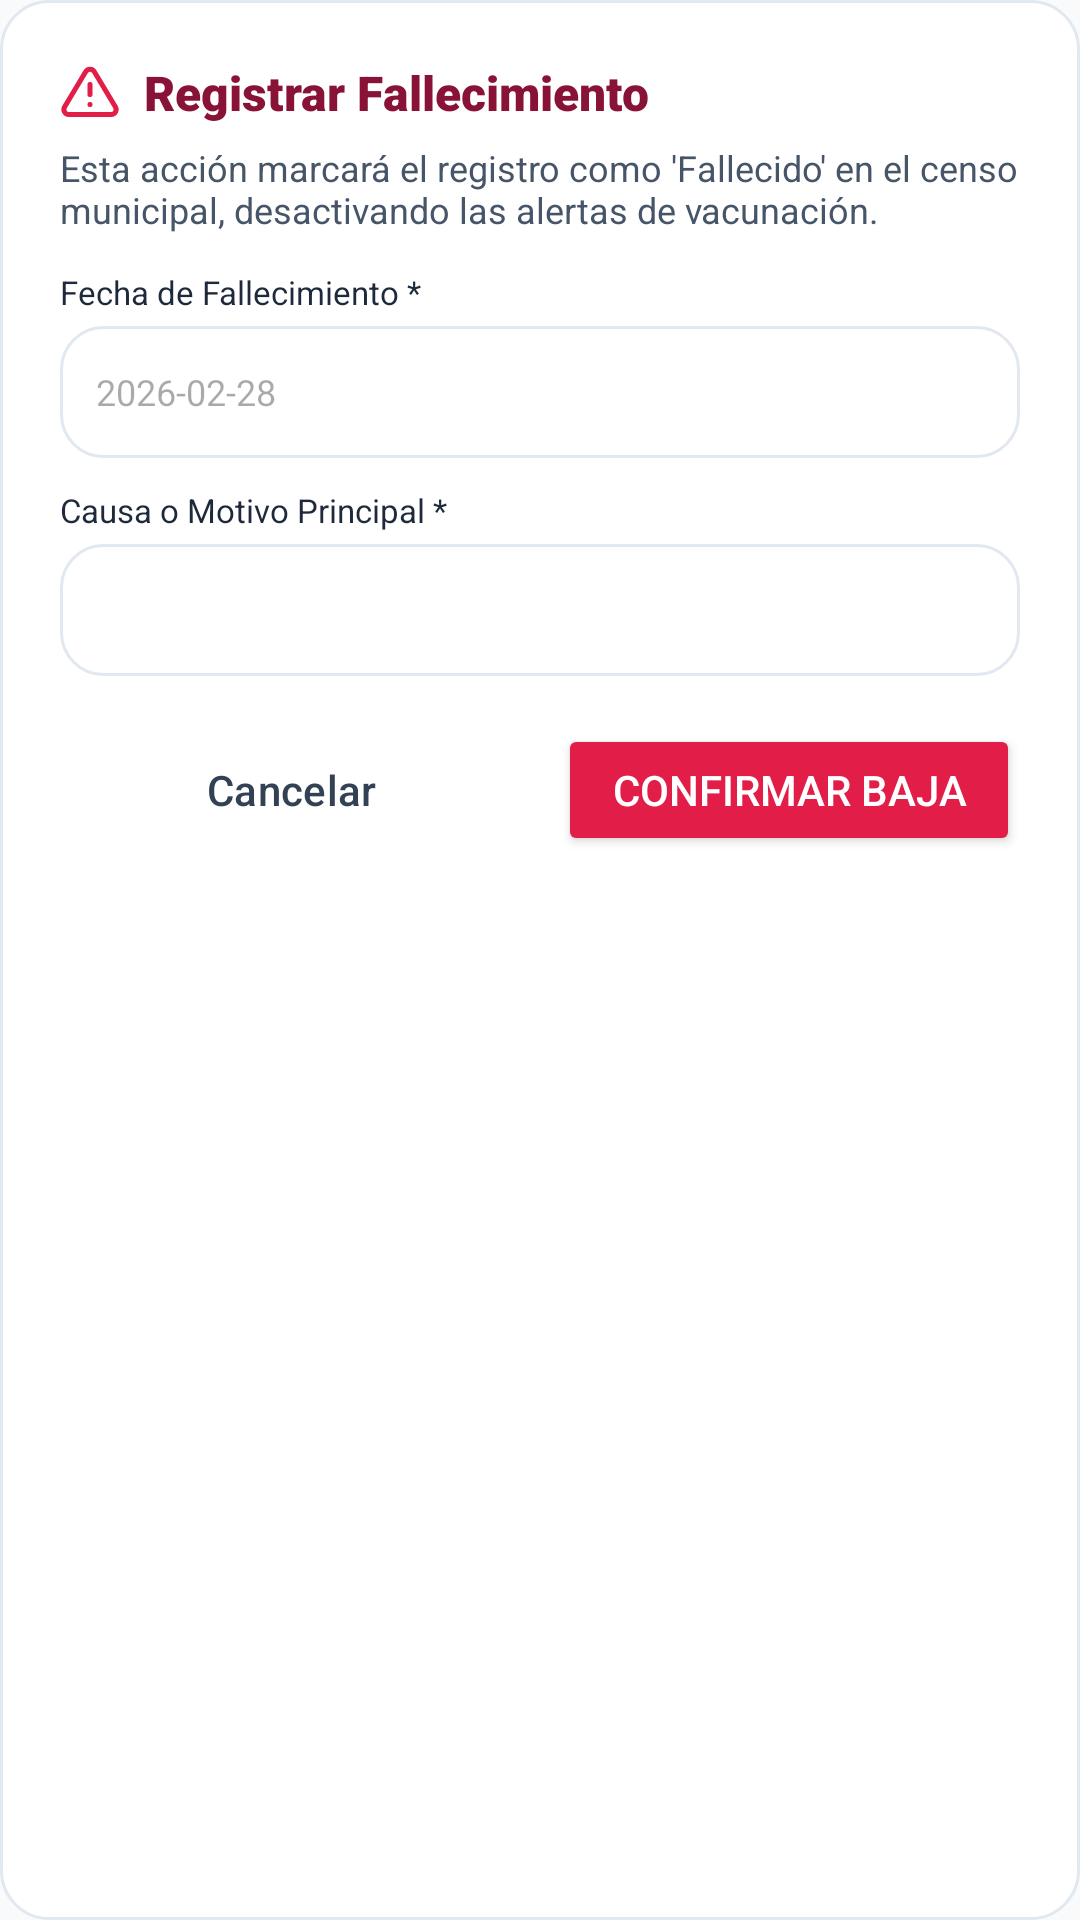

Icons on this 1080×1920 Android screen, each with its box as bbox=[x1, y1, x2, y2]:
alert triangle: bbox=[61, 66, 119, 117]
